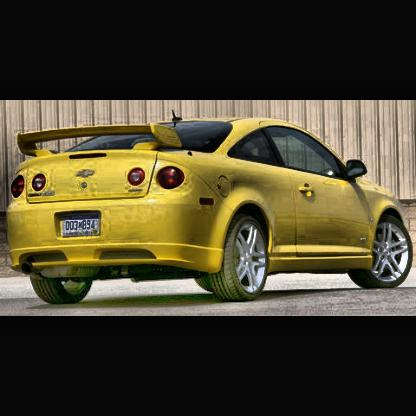Chevrolet Cobalt SS 2010: (8, 110, 415, 302)
